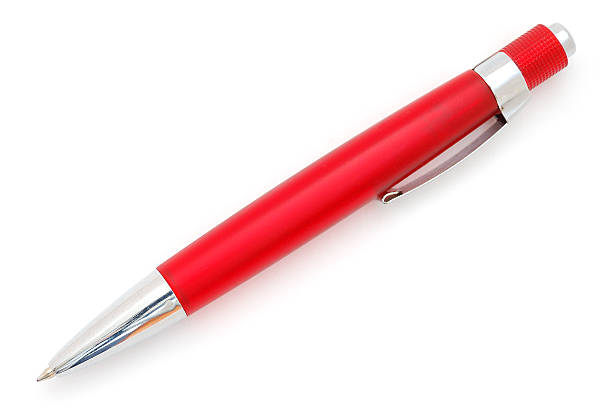pen: (25, 14, 587, 386)
